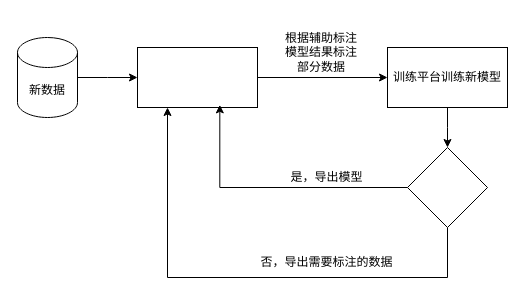
Some shapes in this 525 by 303 pixel diagram are drawn without their labels. The box of each missing label's shape, as (x1, y1, x2, y2) in pixels:
模型足够好: (406, 146, 488, 228)
辅助标注平台: (136, 46, 258, 108)
